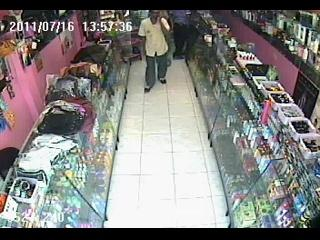Normal: (138, 10, 172, 92), (169, 11, 191, 60)
